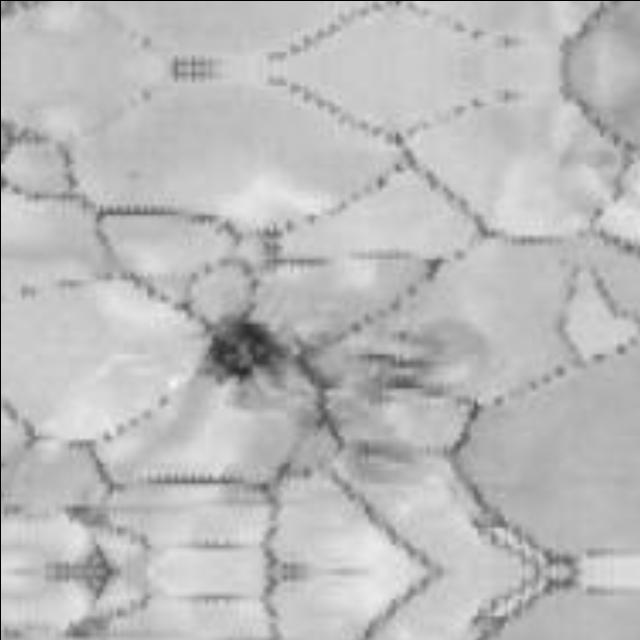good_void: (185, 293, 309, 418)
